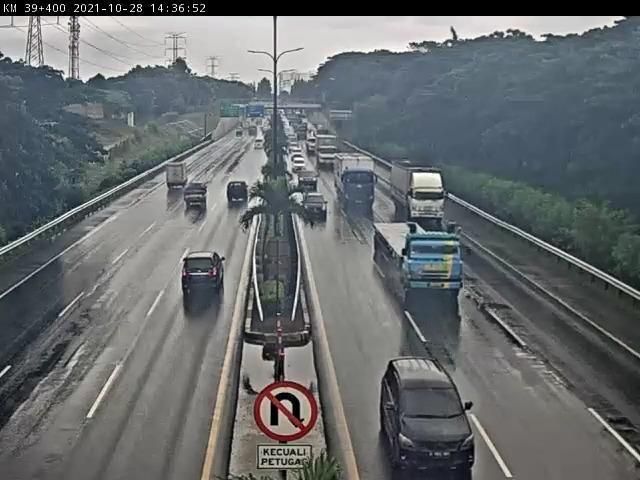car: (390, 367, 461, 456), (149, 249, 238, 311), (224, 183, 242, 213), (306, 196, 325, 222), (299, 164, 317, 182)
truck: (382, 228, 462, 292), (392, 162, 444, 217), (344, 158, 371, 204), (185, 188, 213, 219), (160, 170, 182, 198)
